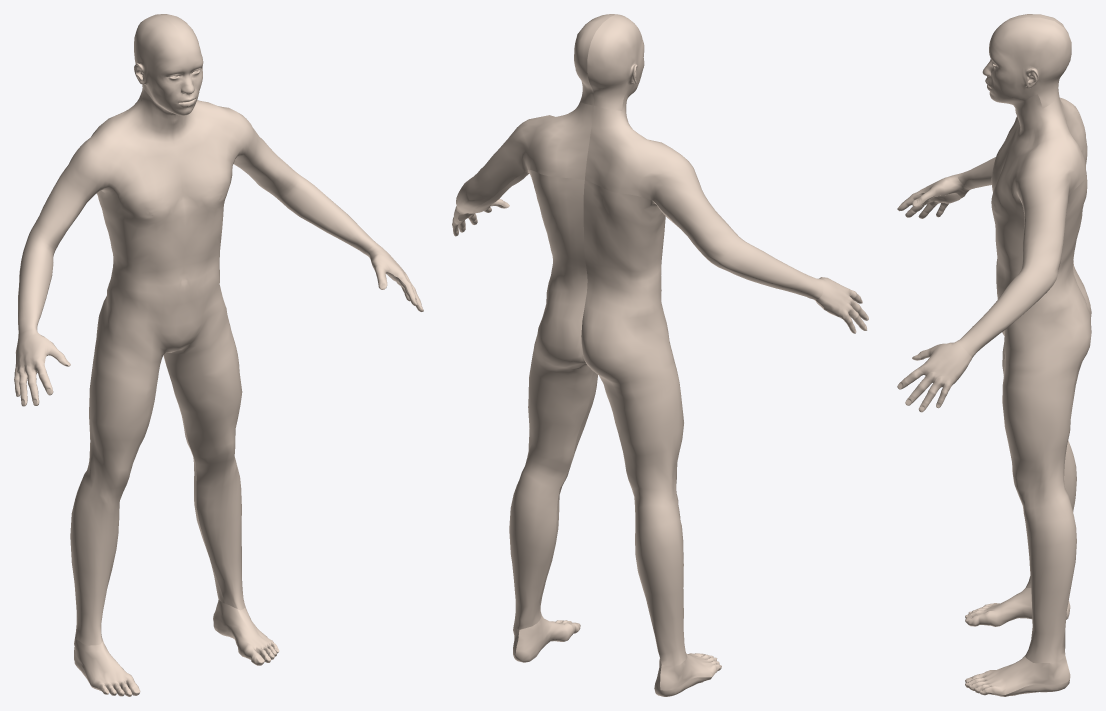
The model's file is avatar-male.glb.
3 renders of one model, left to right at view 1: azimuth 30°, elevation 25°; view 2: azimuth 150°, elevation 25°; view 3: azimuth 270°, elevation 25°, orthographic.
Parts seen in each view (by area): view 1: avatar-male; view 2: avatar-male; view 3: avatar-male.
Boxes of the visible parts, x1,y1,x2,y2 form: avatar-male: (14, 14, 423, 696); avatar-male: (452, 14, 868, 696); avatar-male: (897, 14, 1091, 696).
Size of the model in its own units: 1.13 by 1.73 by 0.4772.
